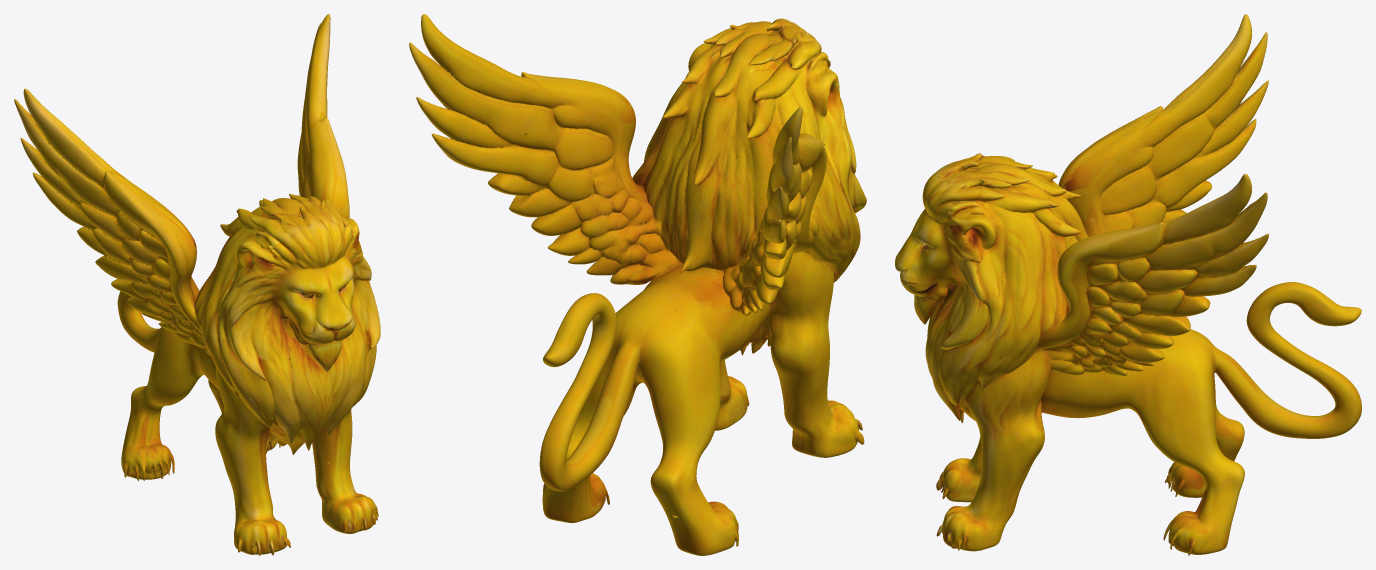
Rendered from majestic-winged-lion-gold-desktop.glb.
The picture shows the model from 3 angles, left to right: view 1: azimuth 30°, elevation 25°; view 2: azimuth 150°, elevation 25°; view 3: azimuth 270°, elevation 25°; orthographic projection. The views are drawn at different scales.
Bounding box in the file's own units: 1.65 × 2 × 2.
Materials: 1 (1 with a texture image).
